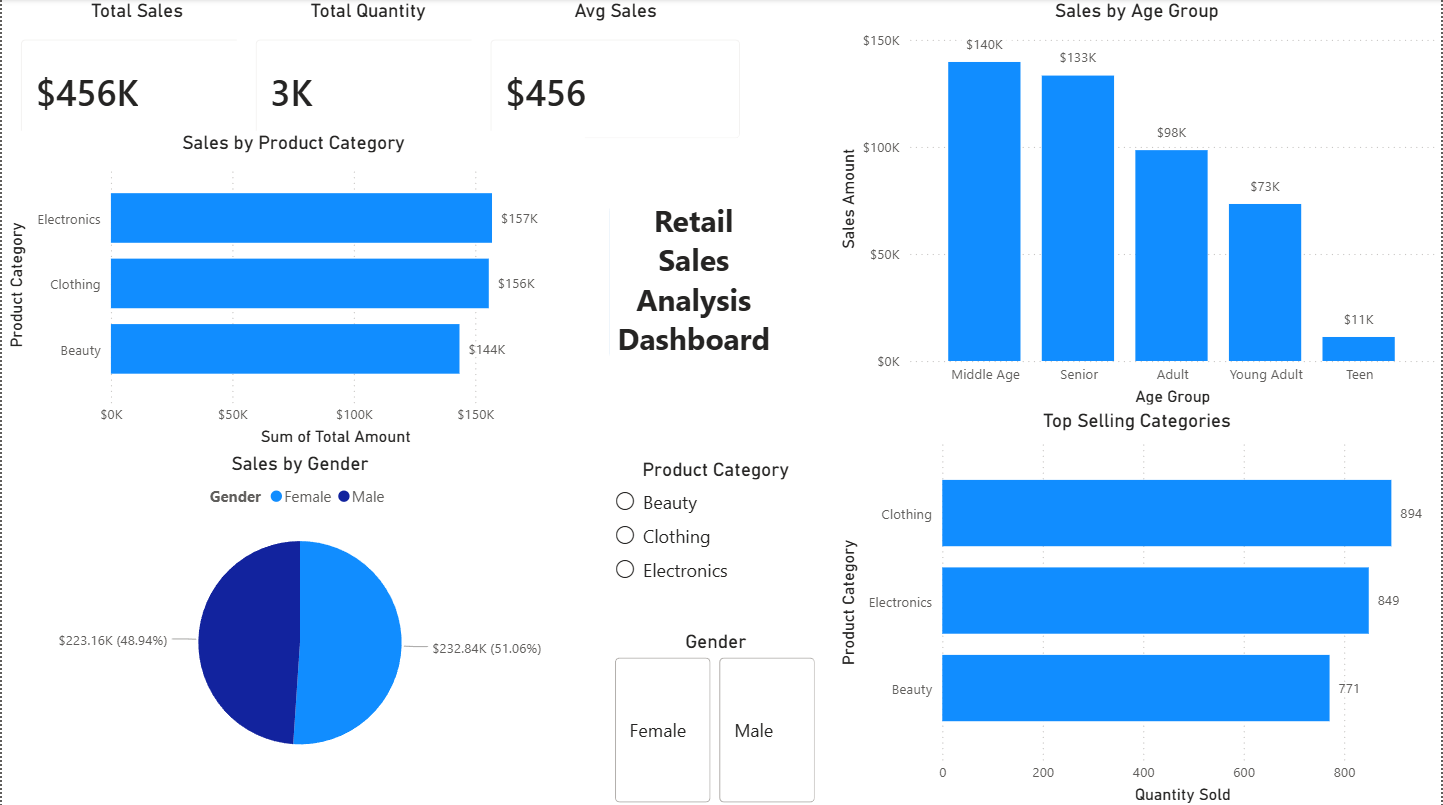

The dashboard page shown, as its layout file describes it:
{"tool":"powerbi","page":{"name":"Page 1","canvas":[1280,720],"ordinal":0},"visuals":[{"type":"cardVisual","title":"Total Sales","fields":{"Data":["Sum(retail_sales_dataset.Total Amount)"]},"box":[0,0,240,141.2],"z":0},{"type":"cardVisual","title":"Total Quantity","fields":{"Data":["Sum(retail_sales_dataset.Quantity)"]},"box":[208.8,0,233.8,141.2],"z":1000},{"type":"cardVisual","title":"Avg Sales","fields":{"Data":["Avg(retail_sales_dataset.Total Amount)"]},"box":[417.5,0,256.2,141.2],"z":2000},{"type":"clusteredBarChart","title":"Sales by Product Category","fields":{"Y":["Sum(retail_sales_dataset.Total Amount)"],"Category":["retail_sales_dataset.Product Category"]},"box":[0,117.6,518.7,284.6],"z":3000},{"type":"pieChart","title":"Sales by Gender","fields":{"Category":["retail_sales_dataset.Gender"],"Y":["Sum(retail_sales_dataset.Total Amount)"]},"box":[0,402.5,530,291.2],"z":4000},{"type":"lineStackedColumnComboChart","title":"Sales by Age Group","fields":{"Category":["retail_sales_dataset.Age Group"],"Y":["Sum(retail_sales_dataset.Total Amount)"]},"box":[739.8,0,539.9,365.8],"z":5000},{"type":"clusteredBarChart","title":"Top Selling Categories","fields":{"Category":["retail_sales_dataset.Product Category"],"Y":["Sum(retail_sales_dataset.Quantity)"]},"box":[739.8,364.6,539.9,355.2],"z":6000},{"type":"advancedSlicerVisual","fields":{"Values":["retail_sales_dataset.Gender"]},"box":[539.9,561,189.4,158.8],"z":7000},{"type":"listSlicer","fields":{"Values":["retail_sales_dataset.Product Category"]},"box":[539.9,408.1,189.4,152.9],"z":8000},{"type":"shape","box":[540,182.5,150,138.8],"z":8500},{"type":"textbox","box":[540,173.8,150,186.2],"z":9000}]}

Visuals, with their boxes in screenshot pixels (x1, y1, x2, y2), scaled from the page's 1280x720 canvas onto the 1443x805 screenshot:
"Total Sales" cardVisual: x1=0 y1=0 x2=271 y2=158
"Total Quantity" cardVisual: x1=235 y1=0 x2=499 y2=158
"Avg Sales" cardVisual: x1=471 y1=0 x2=759 y2=158
"Sales by Product Category" clusteredBarChart: x1=0 y1=131 x2=585 y2=450
"Sales by Gender" pieChart: x1=0 y1=450 x2=597 y2=776
"Sales by Age Group" lineStackedColumnComboChart: x1=834 y1=0 x2=1442 y2=409
"Top Selling Categories" clusteredBarChart: x1=834 y1=408 x2=1442 y2=804
advancedSlicerVisual - retail_sales_dataset.Gender: x1=609 y1=627 x2=822 y2=804
listSlicer - retail_sales_dataset.Product Category: x1=609 y1=456 x2=822 y2=627
shape: x1=609 y1=204 x2=778 y2=359
textbox: x1=609 y1=194 x2=778 y2=402
